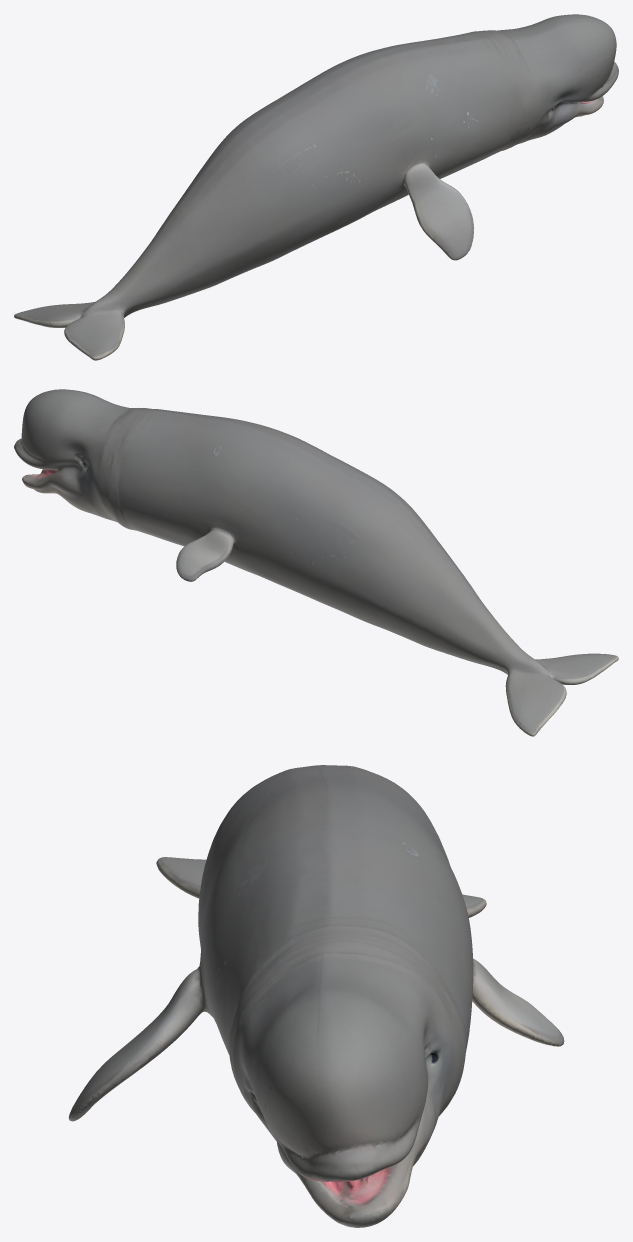
File: Beluga.glb
3 renders of one model, top to bottom at view 1: azimuth 30°, elevation 25°; view 2: azimuth 150°, elevation 25°; view 3: azimuth 270°, elevation 25°, orthographic. The views are drawn at different scales.
Parts seen in each view (by area): view 1: tripo_node_82dc2e6e-109e-4306-bd03-e34f4fdd1728; view 2: tripo_node_82dc2e6e-109e-4306-bd03-e34f4fdd1728; view 3: tripo_node_82dc2e6e-109e-4306-bd03-e34f4fdd1728.
Boxes of the visible parts, bbox=[...] form: tripo_node_82dc2e6e-109e-4306-bd03-e34f4fdd1728: bbox=[14, 14, 618, 360]; tripo_node_82dc2e6e-109e-4306-bd03-e34f4fdd1728: bbox=[14, 389, 618, 736]; tripo_node_82dc2e6e-109e-4306-bd03-e34f4fdd1728: bbox=[68, 765, 564, 1227].
Size of the model in its own units: 1 by 0.3499 by 0.3862.
1 material, 1 textured.
